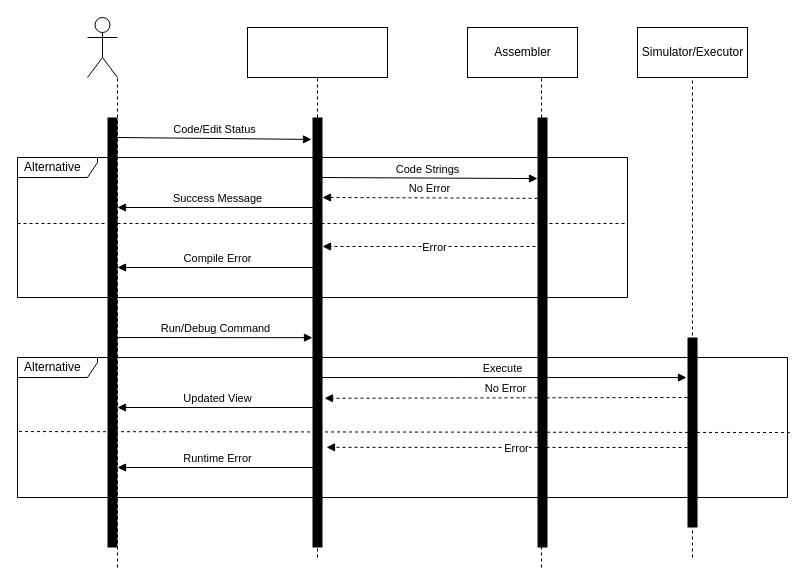
Image size: 809x586. Some labels were removed from this diagram. The shapes that lost their labels are listed below. From the top down, each one's centre as x and y in pixels, then its label:
At (x=102, y=47): "Actor".
At (x=317, y=52): "Main View (Editor+Memory+PSW)".
